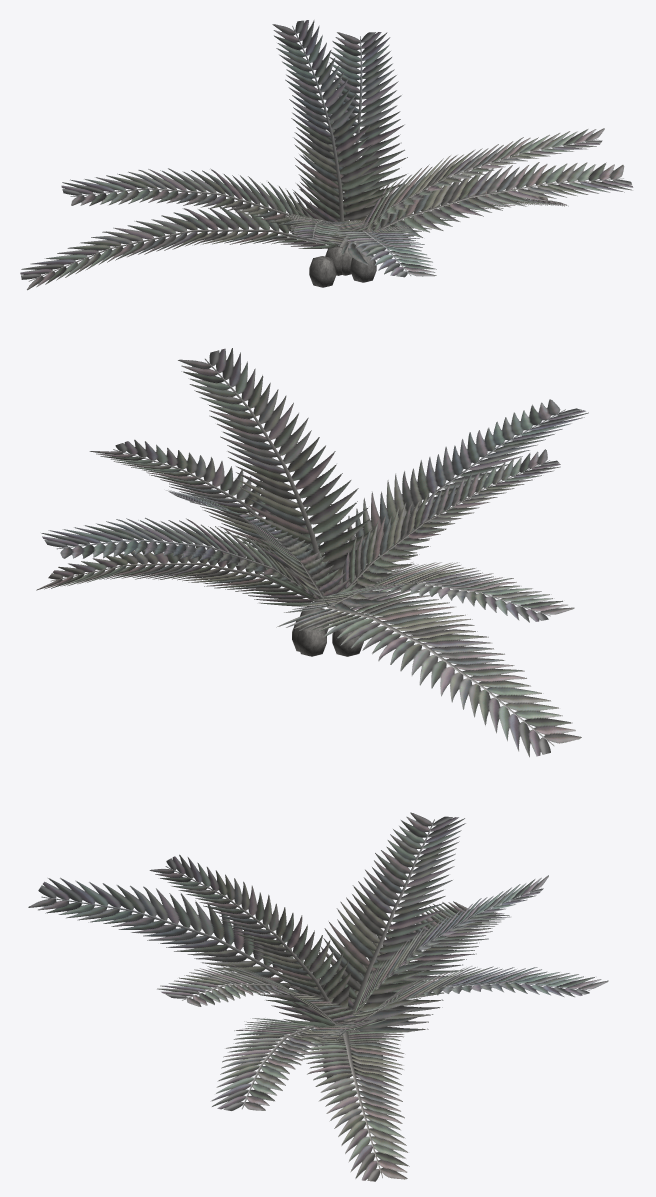
Rendered from palm_short_l0.gltf.
3 views of the same model, one above another, from view 1: azimuth 30°, elevation 25°; view 2: azimuth 150°, elevation 25°; view 3: azimuth 270°, elevation 25° (orthographic). The views are drawn at different scales.
Visible parts, largest first — view 1: palm_short_l0; view 2: palm_short_l0; view 3: palm_short_l0.
Part boxes in pixels (box(x1,y1,x2,y2)): palm_short_l0: box(20, 20, 633, 290); palm_short_l0: box(36, 348, 588, 757); palm_short_l0: box(28, 812, 608, 1181).
Bounding box in the file's own units: 6.52 × 2.21 × 5.87.
Materials: 1 (1 with a texture image).
